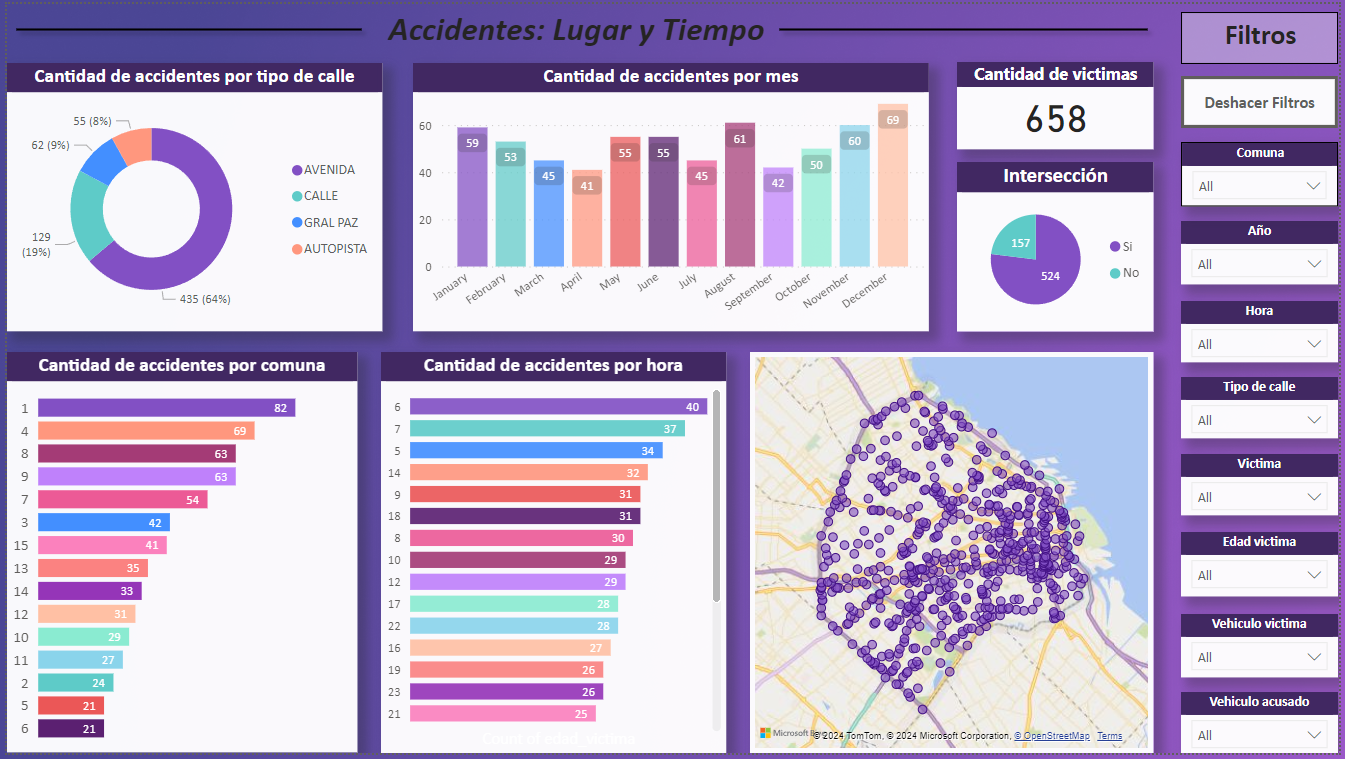

Layout of this report page (visuals, bound fields, positions):
{"tool":"powerbi","page":{"name":"Lugar y Tiempo","canvas":[1280,720],"ordinal":1},"visuals":[{"type":"map","fields":{"Y":["hechos_df.latitud"],"X":["hechos_df.longitud"]},"box":[714.4,334.6,388.5,385.6],"z":0},{"type":"slicer","title":"Año","fields":{"Values":["hechos_df.fecha.Variation.Date Hierarchy.Year"]},"box":[1129.1,208.2,150.9,60.9],"z":1000},{"type":"card","title":"Cantidad de victimas","fields":{"Values":["CountNonNull(victimas_df.edad_victima)"]},"box":[913.5,55.8,189.4,83.7],"z":2000},{"type":"slicer","title":"Comuna","fields":{"Values":["hechos_df.comuna"]},"box":[1129.1,132.7,150.9,61.8],"z":3000},{"type":"slicer","title":"Victima","fields":{"Values":["victimas_df.rol"]},"box":[1129.3,433,150.7,58.7],"z":4000},{"type":"slicer","title":"Hora","fields":{"Values":["hechos_df.franja_horaria"]},"box":[1129.3,285.2,150.7,58.7],"z":5000},{"type":"slicer","title":"Vehiculo victima","fields":{"Values":["hechos_df.vehiculo_victima"]},"box":[1129.3,586.4,150.7,60.6],"z":6000},{"type":"slicer","title":"Vehiculo acusado","fields":{"Values":["hechos_df.vehiculo_acusado"]},"box":[1129.3,661.3,150.7,58.7],"z":7000},{"type":"slicer","title":"Edad victima","fields":{"Values":["victimas_df.rango_etario"]},"box":[1129.3,508.1,150.7,62.4],"z":8000},{"type":"slicer","title":"Tipo de calle","fields":{"Values":["hechos_df.tipo_de_calle"]},"box":[1129.3,359.1,150.7,58.7],"z":9000},{"type":"actionButton","box":[1129.1,69.1,150.9,50],"z":10000},{"type":"textbox","box":[1129.1,7.3,150.9,50],"z":11000},{"type":"donutChart","title":"Cantidad de accidentes por tipo de calle","fields":{"Category":["hechos_df.tipo_de_calle"],"Y":["Sum(hechos_df.cantidad_victimas)"]},"box":[0,56.7,360.6,257.7],"z":14000},{"type":"pieChart","title":"Intersección","fields":{"Y":["Sum(hechos_df.cantidad_victimas)"],"Category":["hechos_df.cruce"]},"box":[913.5,151.9,189.4,163.5],"z":16000},{"type":"barChart","title":"Cantidad de accidentes por hora","fields":{"Y":["CountNonNull(victimas_df.edad_victima)"],"Category":["hechos_df.franja_horaria"],"Series":["hechos_df.franja_horaria"]},"box":[359.6,334.6,331.7,385.6],"z":17000},{"type":"barChart","title":"Cantidad de accidentes por comuna","fields":{"Category":["hechos_df.comuna"],"Y":["CountNonNull(victimas_df.edad_victima)"],"Series":["hechos_df.comuna"]},"box":[0,334.6,336.5,384.6],"z":17001},{"type":"columnChart","title":"Cantidad de accidentes por mes","fields":{"Y":["CountNonNull(victimas_df.edad_victima)"],"Category":["hechos_df.fecha.Variation.Date Hierarchy.Month"],"Series":["hechos_df.fecha.Variation.Date Hierarchy.Month"]},"box":[390.4,56.7,496.2,257.7],"z":17002},{"type":"shape","box":[0,0,350,49],"z":17003},{"type":"shape","box":[733.7,0,372.1,49],"z":17004},{"type":"textbox","box":[350,0,395.2,49],"z":17005}]}

Visuals, with their boxes in screenshot pixels (x1, y1, x2, y2), scaled from the page's 1280x720 canvas onto the 1345x759 screenshot:
map - hechos_df.latitud x hechos_df.longitud: select_region(751, 353, 1159, 758)
"Año" slicer: select_region(1186, 219, 1344, 284)
"Cantidad de victimas" card: select_region(960, 59, 1159, 147)
"Comuna" slicer: select_region(1186, 140, 1344, 205)
"Victima" slicer: select_region(1187, 456, 1344, 518)
"Hora" slicer: select_region(1187, 301, 1344, 363)
"Vehiculo victima" slicer: select_region(1187, 618, 1344, 682)
"Vehiculo acusado" slicer: select_region(1187, 697, 1344, 758)
"Edad victima" slicer: select_region(1187, 536, 1344, 601)
"Tipo de calle" slicer: select_region(1187, 379, 1344, 440)
actionButton: select_region(1186, 73, 1344, 126)
textbox: select_region(1186, 8, 1344, 60)
"Cantidad de accidentes por tipo de calle" donutChart: select_region(0, 60, 379, 331)
"Intersección" pieChart: select_region(960, 160, 1159, 332)
"Cantidad de accidentes por hora" barChart: select_region(378, 353, 726, 758)
"Cantidad de accidentes por comuna" barChart: select_region(0, 353, 354, 758)
"Cantidad de accidentes por mes" columnChart: select_region(410, 60, 932, 331)
shape: select_region(0, 0, 368, 52)
shape: select_region(771, 0, 1162, 52)
textbox: select_region(368, 0, 783, 52)
